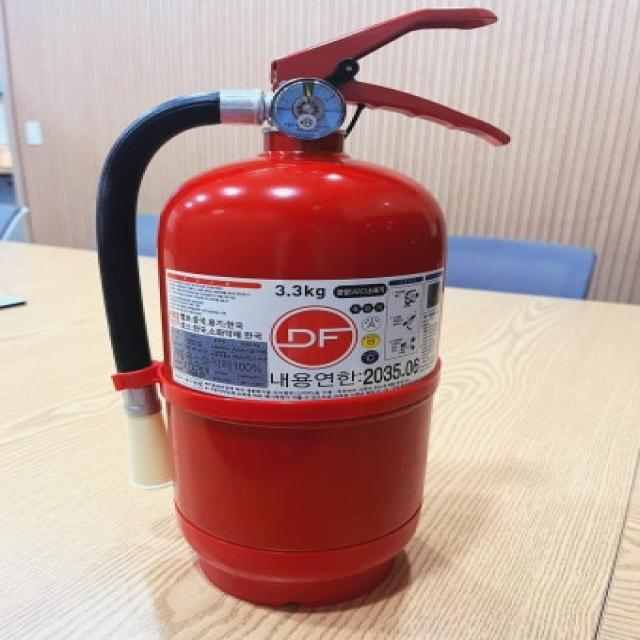pressure gauge: (272, 80, 346, 139)
